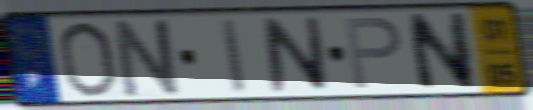I: (219, 16, 249, 96)
N: (403, 10, 479, 93), (112, 15, 186, 100), (260, 15, 332, 94)
O: (55, 19, 120, 99)
P: (341, 15, 405, 92)
